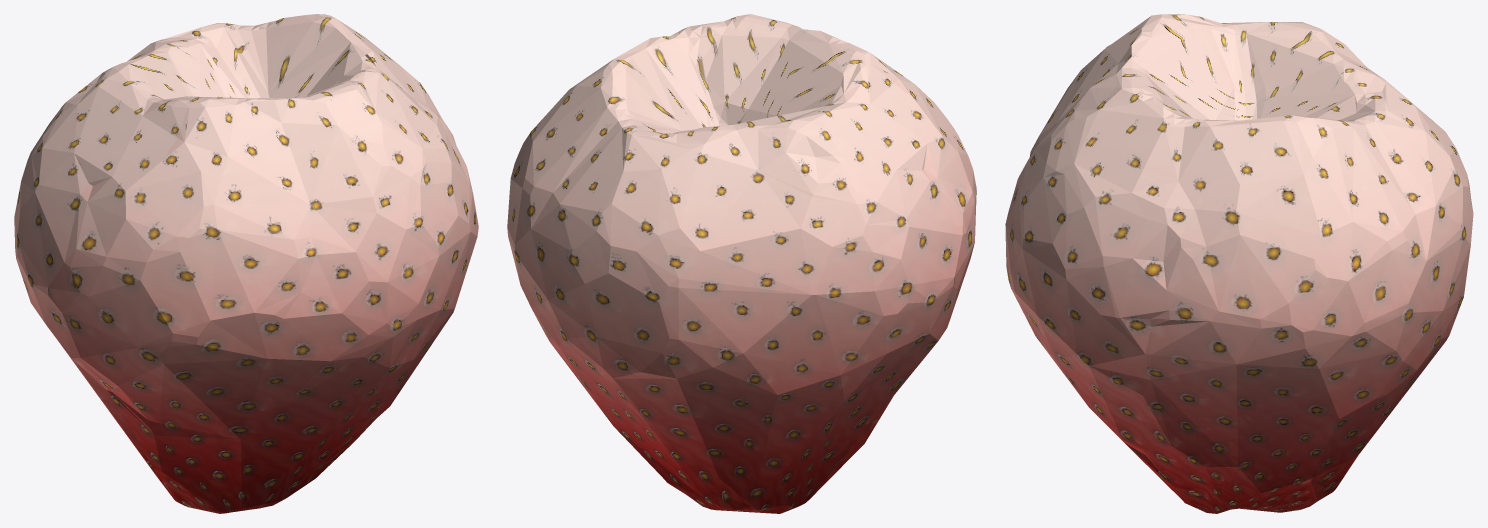
3 views of the same model, side by side, from view 1: azimuth 30°, elevation 25°; view 2: azimuth 150°, elevation 25°; view 3: azimuth 270°, elevation 25° (orthographic). The views are drawn at different scales.
Parts seen in each view (by area): view 1: _004_Meshed; view 2: _004_Meshed; view 3: _004_Meshed.
Part boxes in pixels (x1,y1,x2,y2): _004_Meshed: (14,14,478,513); _004_Meshed: (507,14,976,513); _004_Meshed: (1005,14,1473,513).
Bounding box in the file's own units: 0.1098 × 0.1046 × 0.1135.
Materials: 1 (1 with a texture image).
